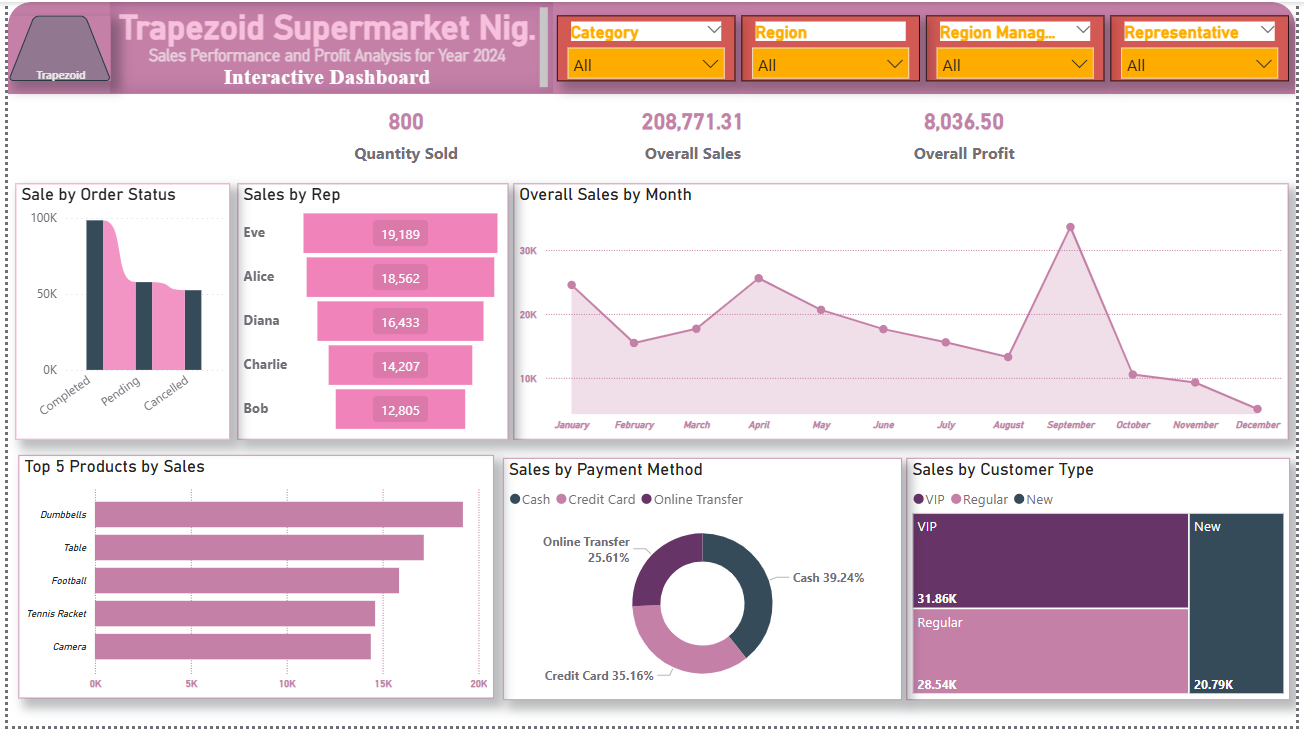

Layout of this report page (visuals, bound fields, positions):
{"tool":"powerbi","page":{"name":"Dashboard","canvas":[1280,720],"ordinal":0},"visuals":[{"type":"card","fields":{"Values":["Sum(Data Table.Quantity Sold)"]},"box":[328.6,92.4,134.8,72.7],"z":0},{"type":"shape","box":[0,0,1280,91.7],"z":1000},{"type":"textbox","box":[101.5,0,440.6,90.9],"z":2000},{"type":"card","fields":{"Values":["Sum(Data Table.Total Sale)"]},"box":[596.6,92.4,168.1,72.7],"z":3000},{"type":"card","fields":{"Values":["Sum(Data Table.Profit)"]},"box":[882.8,92.4,134.8,72.7],"z":4000},{"type":"slicer","fields":{"Values":["Data Table.Category"]},"box":[546.3,13.5,177.2,65.1],"z":5000},{"type":"slicer","fields":{"Values":["Data Table.Region Manager"]},"box":[912.8,13.5,177.2,65.1],"z":6000},{"type":"slicer","fields":{"Values":["Data Table.Region"]},"box":[729.5,13.5,177.2,65.1],"z":7000},{"type":"slicer","fields":{"Values":["Data Table.Sales Representative"]},"box":[1096,13.5,177.2,65.1],"z":8000},{"type":"lineChart","fields":{"Category":["Data Table.Date.Variation.Date Hierarchy.Month"],"Y":["Sum(Data Table.Total Sale)"]},"box":[502.7,180.2,770.7,254.4],"z":9000},{"type":"clusteredBarChart","fields":{"Y":["Sum(Data Table.Total Sale)"],"Category":["Data Table.Product Name"]},"box":[10.6,451.2,472.4,242.3],"z":10000},{"type":"treemap","fields":{"Values":["Sum(Data Table.Total Sale)"],"Group":["Data Table.Customer Type"]},"box":[893.4,452.7,381.6,240.8],"z":11000},{"type":"donutChart","fields":{"Y":["Sum(Data Table.Total Sale)"],"Category":["Data Table.Payment Method"]},"box":[492.1,452.7,396.7,240.8],"z":12000},{"type":"funnel","title":"Sales by Rep","fields":{"Category":["Data Table.Sales Representative"],"Y":["Sum(Data Table.Total Sale)"]},"box":[228.6,180.2,269.5,254.4],"z":13000},{"type":"ribbonChart","fields":{"Category":["Data Table.Order Status"],"Y":["Sum(Data Table.Total Sale)"]},"box":[7.6,180.2,213.5,254.4],"z":13001},{"type":"shape","box":[0,13.6,103,65.1],"z":13002}]}

Visuals, with their boxes in screenshot pixels (x1, y1, x2, y2), scaled from the page's 1280x720 canvas onto the 1304x733 screenshot:
card - Sum(Data Table.Quantity Sold): x1=335, y1=94, x2=472, y2=168
shape: x1=0, y1=0, x2=1303, y2=93
textbox: x1=103, y1=0, x2=552, y2=93
card - Sum(Data Table.Total Sale): x1=608, y1=94, x2=779, y2=168
card - Sum(Data Table.Profit): x1=899, y1=94, x2=1037, y2=168
slicer - Data Table.Category: x1=557, y1=14, x2=737, y2=80
slicer - Data Table.Region Manager: x1=930, y1=14, x2=1110, y2=80
slicer - Data Table.Region: x1=743, y1=14, x2=924, y2=80
slicer - Data Table.Sales Representative: x1=1117, y1=14, x2=1297, y2=80
lineChart - Data Table.Date.Variation.Date Hierarchy.Month x Sum(Data Table.Total Sale): x1=512, y1=183, x2=1297, y2=442
clusteredBarChart - Sum(Data Table.Total Sale) x Data Table.Product Name: x1=11, y1=459, x2=492, y2=706
treemap - Sum(Data Table.Total Sale) x Data Table.Customer Type: x1=910, y1=461, x2=1299, y2=706
donutChart - Sum(Data Table.Total Sale) x Data Table.Payment Method: x1=501, y1=461, x2=905, y2=706
"Sales by Rep" funnel: x1=233, y1=183, x2=507, y2=442
ribbonChart - Data Table.Order Status x Sum(Data Table.Total Sale): x1=8, y1=183, x2=225, y2=442
shape: x1=0, y1=14, x2=105, y2=80
